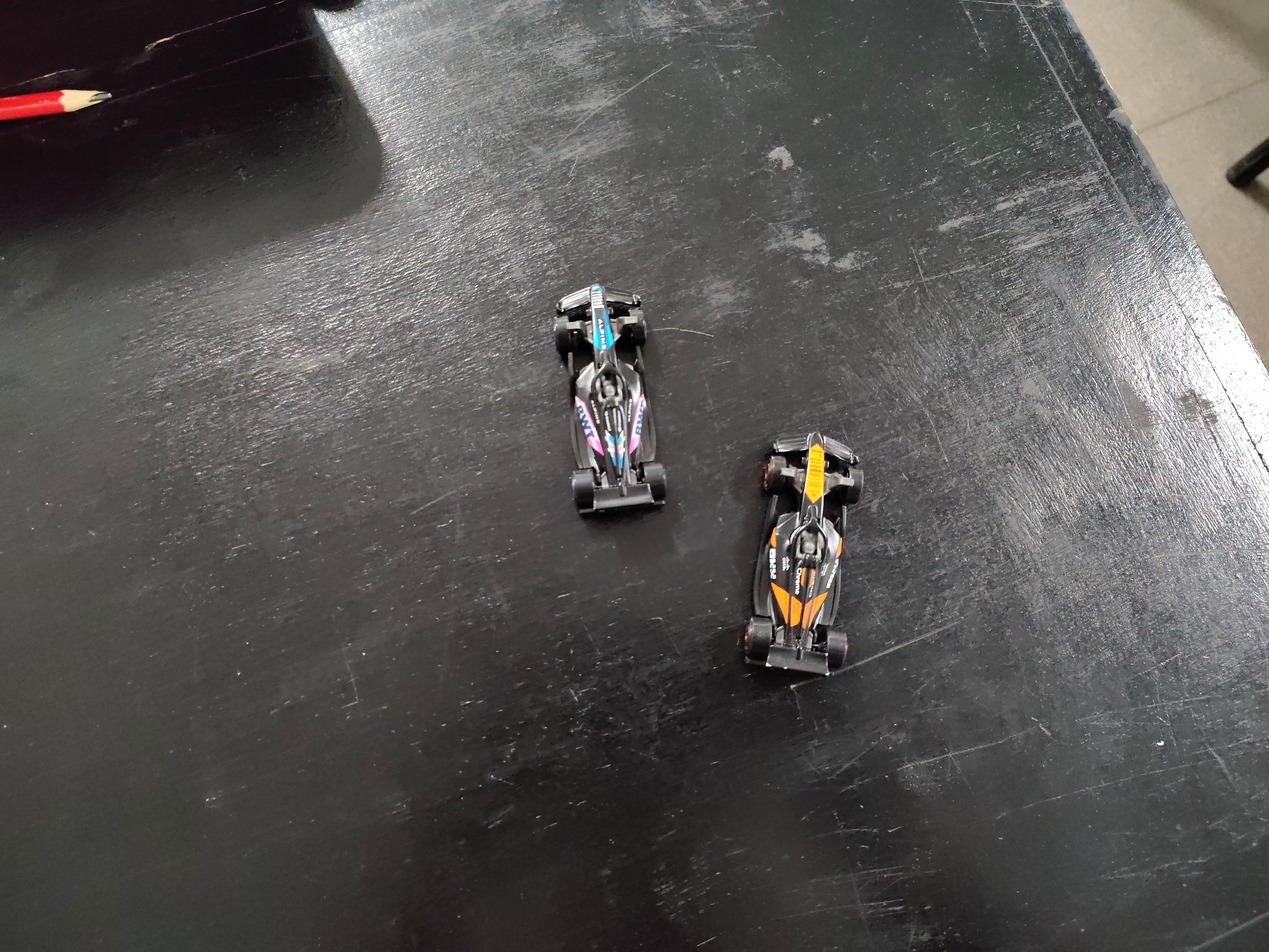Alpine A524: (519, 242, 692, 545)
McLaren MCL40: (740, 380, 877, 722)
